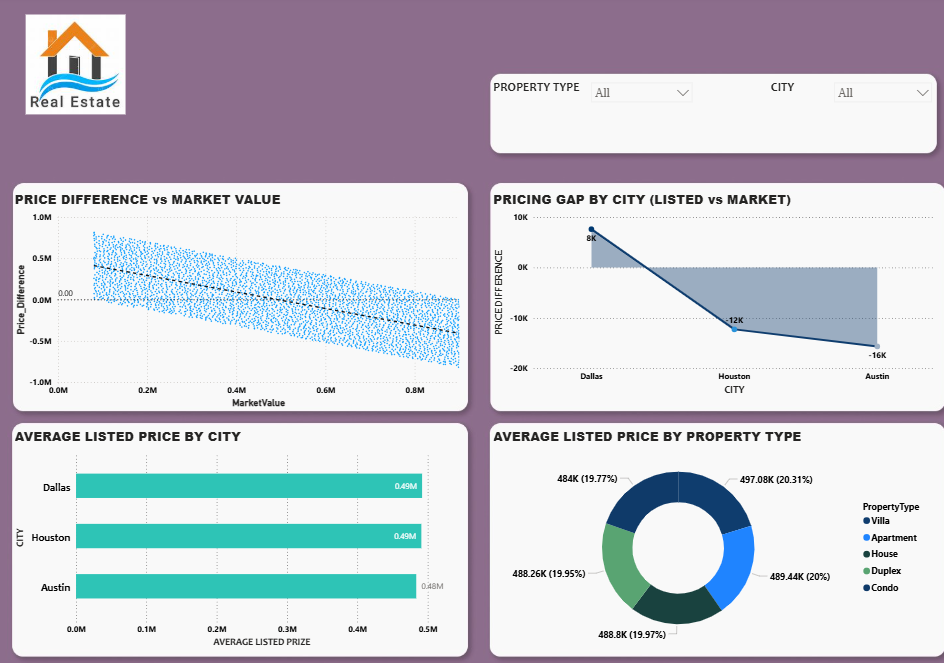

Layout of this report page (visuals, bound fields, positions):
{"tool":"powerbi","page":{"name":"PRICING & MARKET VALUE ANALYSIS","canvas":[1440,1024],"ordinal":1},"visuals":[{"type":"barChart","title":"AVERAGE LISTED PRICE BY CITY","fields":{"Category":["Properties.City"],"Y":["Measure_Table.Avg_Listed_Price"]},"box":[25,652.5,677.5,337.5],"z":0},{"type":"donutChart","title":"AVERAGE LISTED PRICE BY PROPERTY TYPE","fields":{"Category":["Properties.PropertyType"],"Y":["Measure_Table.Avg_Listed_Price"]},"box":[747.5,652.5,675,337.5],"z":1000},{"type":"areaChart","title":"PRICING GAP BY CITY (LISTED vs MARKET)","fields":{"Category":["Properties.City"],"Y":["Measure_Table.Price_Difference"]},"box":[747.5,295,675,315],"z":2000},{"type":"slicer","title":"CITY","fields":{"Values":["Properties.City"]},"box":[1255,122.5,167.5,57.5],"z":3000},{"type":"slicer","title":" PROPERTY TYPE","fields":{"Values":["Properties.PropertyType"]},"box":[890,122.5,172.5,57.5],"z":4000},{"type":"scatterChart","title":"PRICE DIFFERENCE vs MARKET VALUE","fields":{"X":["Properties.MarketValue"],"Y":["Measure_Table.Price_Difference"]},"box":[25,295,695,332.5],"z":5000},{"type":"textbox","box":[747.5,122.5,182.5,105],"z":6000},{"type":"textbox","box":[1165,122.5,90,57.5],"z":7000},{"type":"image","box":[25.1,29.6,193.7,150.4],"z":8000}]}

Visuals, with their boxes in screenshot pixels (x1, y1, x2, y2), scaled from the page's 1440x1024 canvas onto the 944x663 screenshot:
"AVERAGE LISTED PRICE BY CITY" barChart: (left=16, top=422, right=461, bottom=641)
"AVERAGE LISTED PRICE BY PROPERTY TYPE" donutChart: (left=490, top=422, right=933, bottom=641)
"PRICING GAP BY CITY (LISTED vs MARKET)" areaChart: (left=490, top=191, right=933, bottom=395)
"CITY" slicer: (left=823, top=79, right=933, bottom=117)
" PROPERTY TYPE" slicer: (left=583, top=79, right=697, bottom=117)
"PRICE DIFFERENCE vs MARKET VALUE" scatterChart: (left=16, top=191, right=472, bottom=406)
textbox: (left=490, top=79, right=610, bottom=147)
textbox: (left=764, top=79, right=823, bottom=117)
image: (left=16, top=19, right=143, bottom=117)
